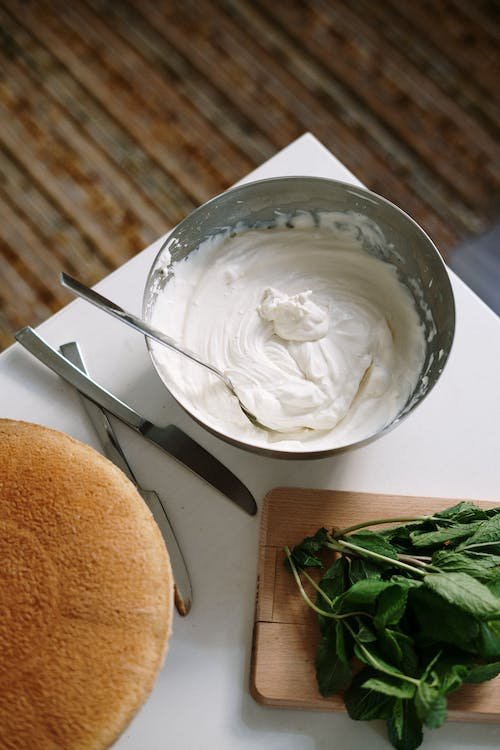knife: (11, 322, 260, 519), (57, 338, 195, 619)
